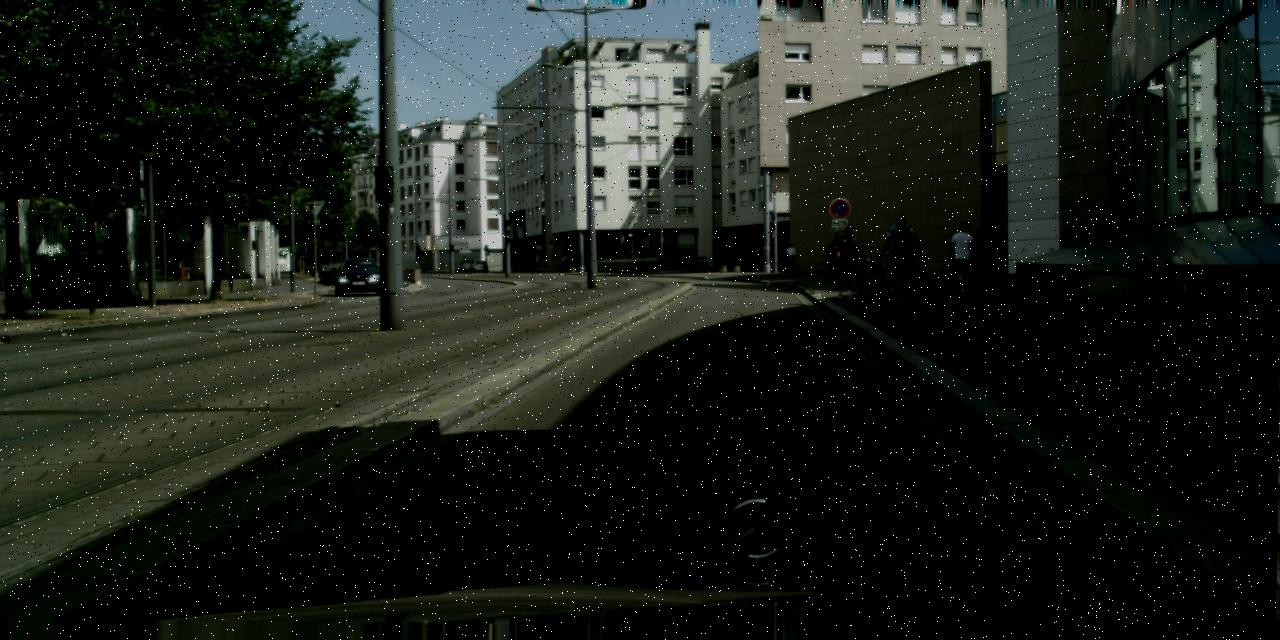ped: (886, 216, 917, 292), (833, 224, 863, 298), (950, 222, 980, 296), (969, 227, 996, 295), (868, 250, 888, 298), (882, 260, 896, 296), (784, 243, 796, 273), (562, 254, 568, 268), (541, 256, 546, 270)
